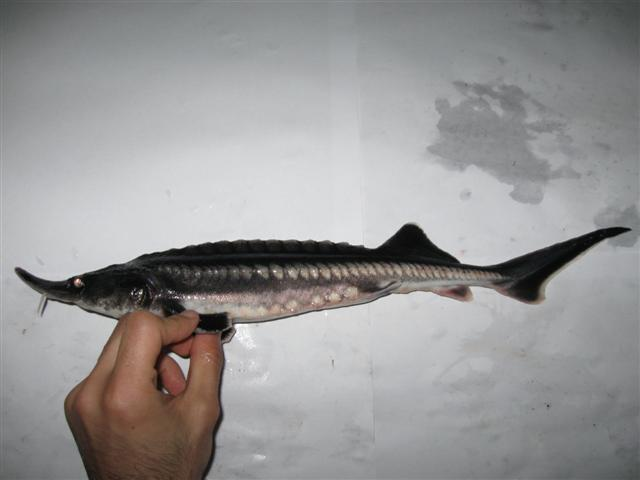Mulut: (10, 257, 66, 339)
Sirip Anal: (434, 276, 482, 314)
Sirip Dada: (178, 305, 242, 353)
Sirip Ekor: (488, 191, 640, 338)
Sirip Perut: (350, 270, 418, 348)
Sirip Punggung: (366, 215, 464, 272)
